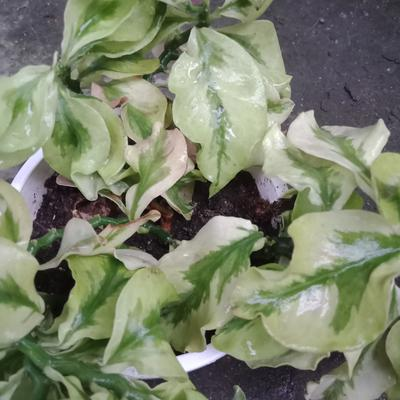Pothos plant: (41, 10, 371, 303)
